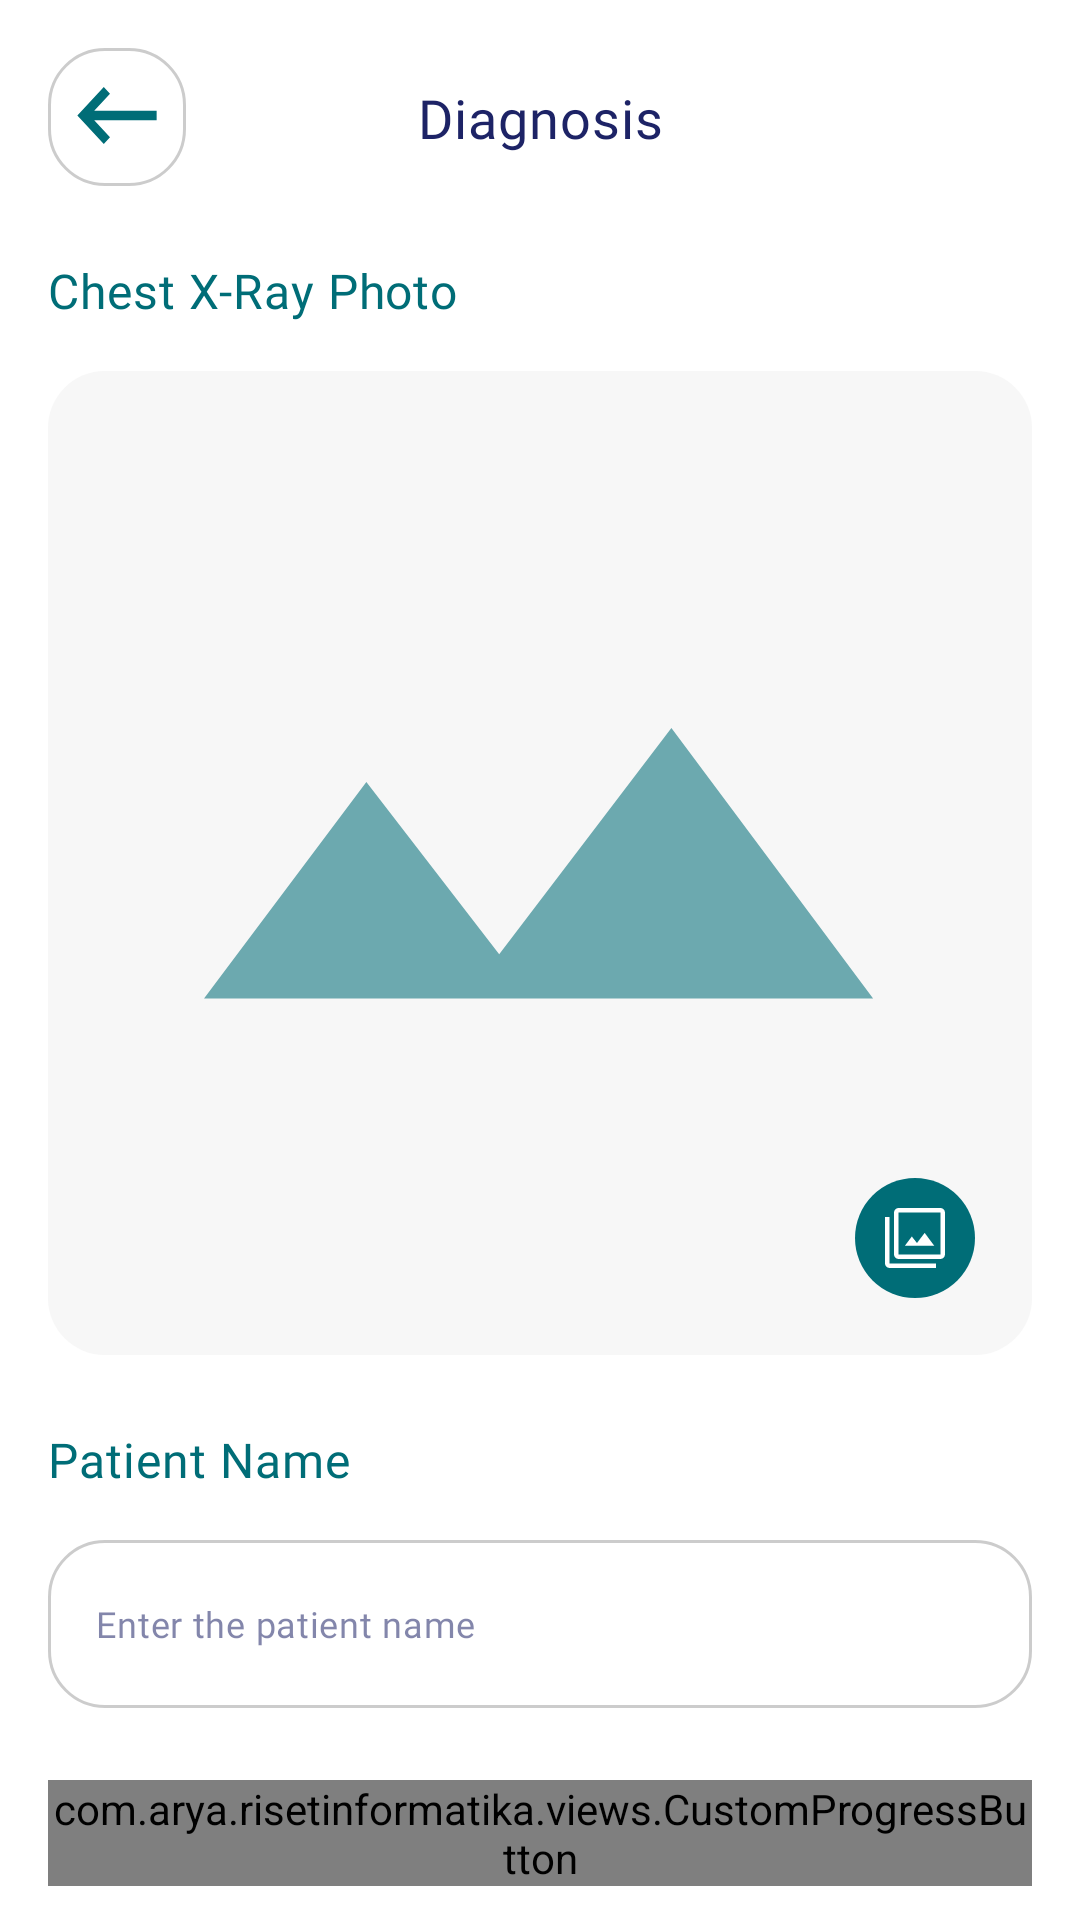

Where icons sit on this 1080 × 1920 app screen, as (x1, y1, x2, y2):
Arrow Back: (48, 48, 186, 186)
Gallery: (855, 1178, 975, 1298)
